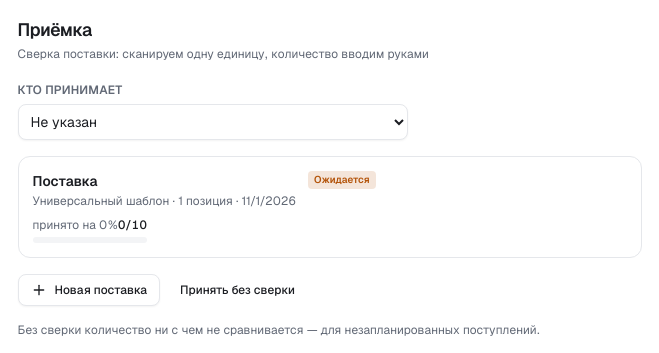
Scenario: ReceivingScreen — порядок шагов › «Сменить поставку» возвращает в начало мастера
This screenshot has width=659, height=353.
Click the button "Поставка" at [65, 181], box [18,156,642,258]
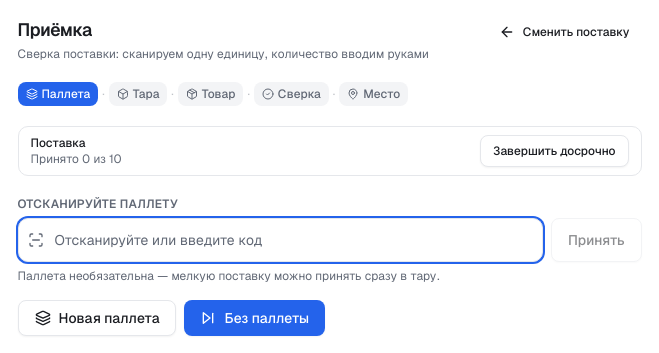
Click the button "Сменить поставку" at [564, 32], box [487,16,642,48]
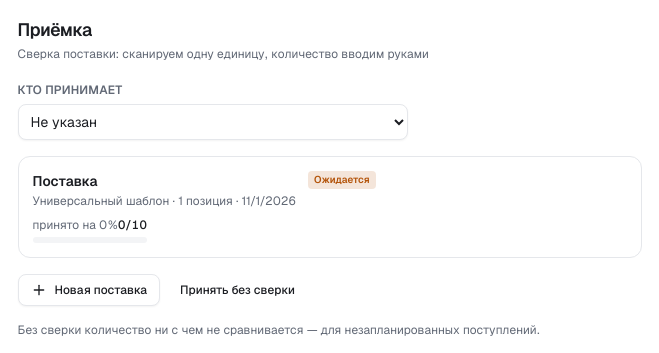
Check: the button "Принять без сверки" is shown, box [168,274,307,306]
Check: the list is gone
